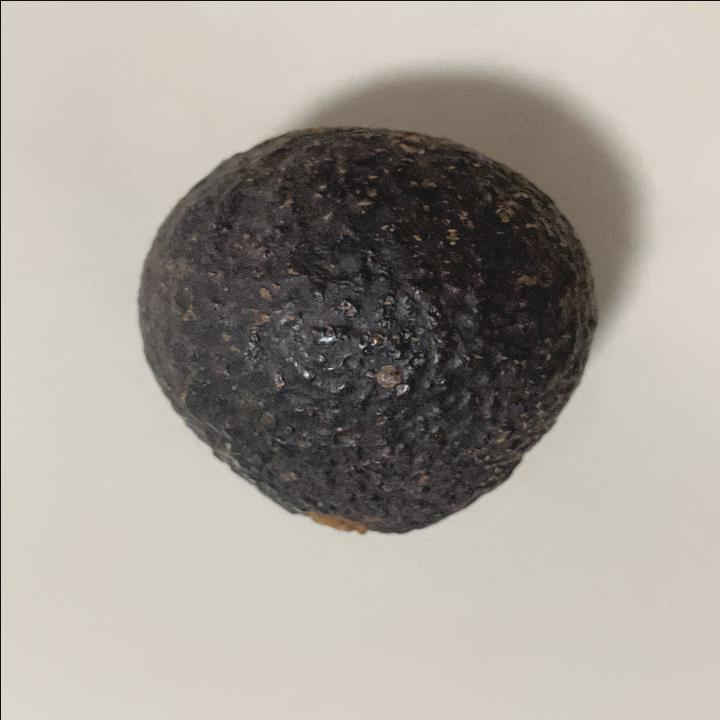Level2: (130, 121, 606, 538)
